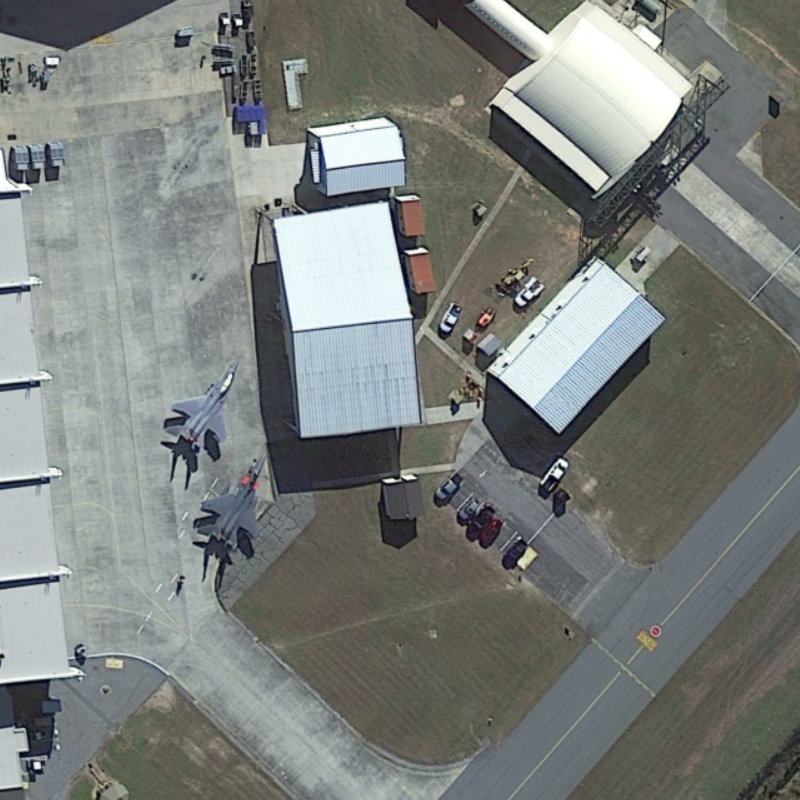A13: (192, 450, 273, 557), (160, 357, 244, 460)
